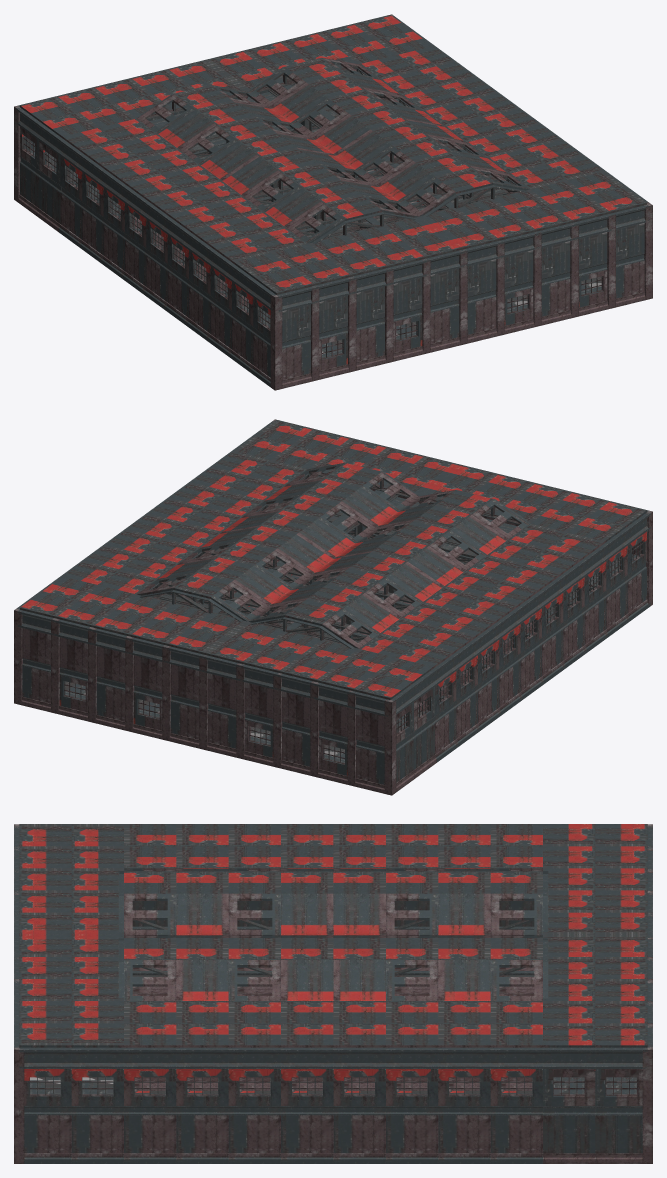
The model's file is Main_Buildings.glb.
3 views of the same model, one above another, from view 1: azimuth 30°, elevation 25°; view 2: azimuth 150°, elevation 25°; view 3: azimuth 270°, elevation 25° (orthographic). The views are drawn at different scales.
Parts seen in each view (by area): view 1: Main_Building; view 2: Main_Building; view 3: Main_Building.
Part boxes in pixels (<box>): Main_Building: <box>14,14,652,390</box>; Main_Building: <box>14,419,652,795</box>; Main_Building: <box>14,824,652,1163</box>.
Bounding box in the file's own units: 51 × 14.25 × 61.
4 materials, 4 textured.
